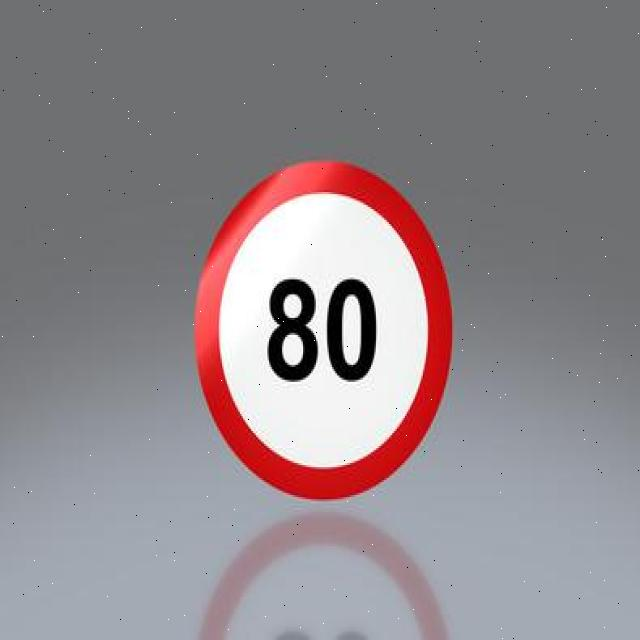speed limit 80: (192, 158, 454, 503)
